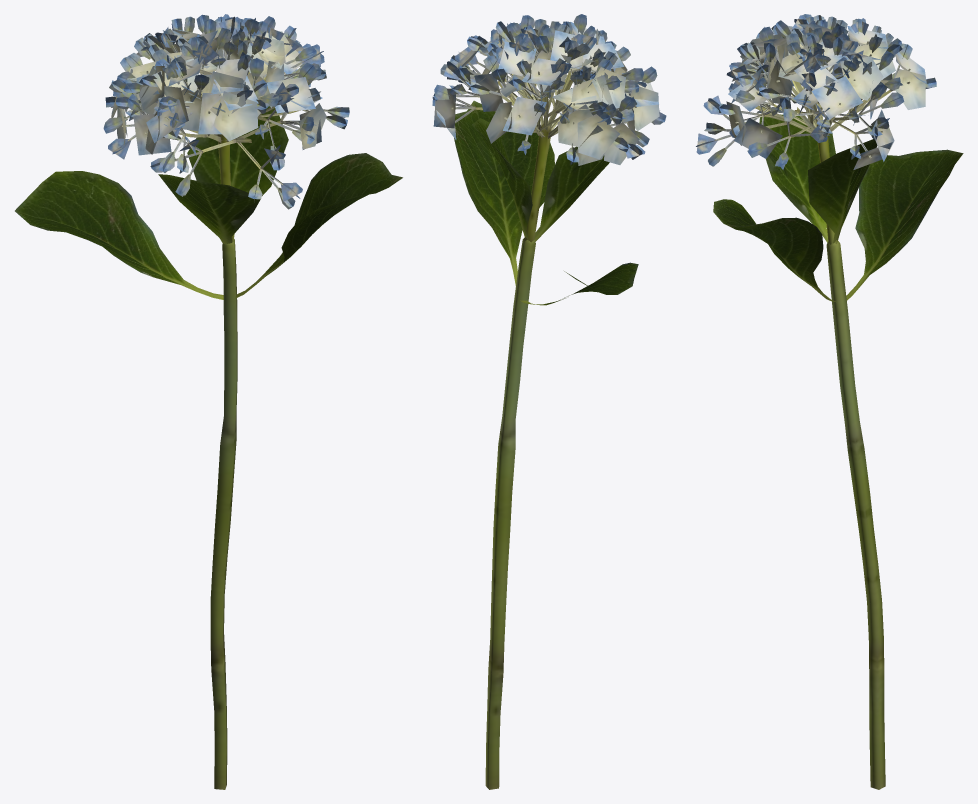
File: Hydrangea_baby_normal_deepblue.glb
3 views of the same model, side by side, from view 1: azimuth 30°, elevation 25°; view 2: azimuth 150°, elevation 25°; view 3: azimuth 270°, elevation 25° (orthographic). The views are drawn at different scales.
Parts seen in each view (by area): view 1: BABY; view 2: BABY; view 3: BABY.
Part boxes in pixels (x1,y1,x2,y2): BABY: (15,14,402,789); BABY: (432,14,666,789); BABY: (696,14,963,789).
Size of the model in its own units: 0.7928 by 2.22 by 0.7195.
Materials: 1 (1 with a texture image).
